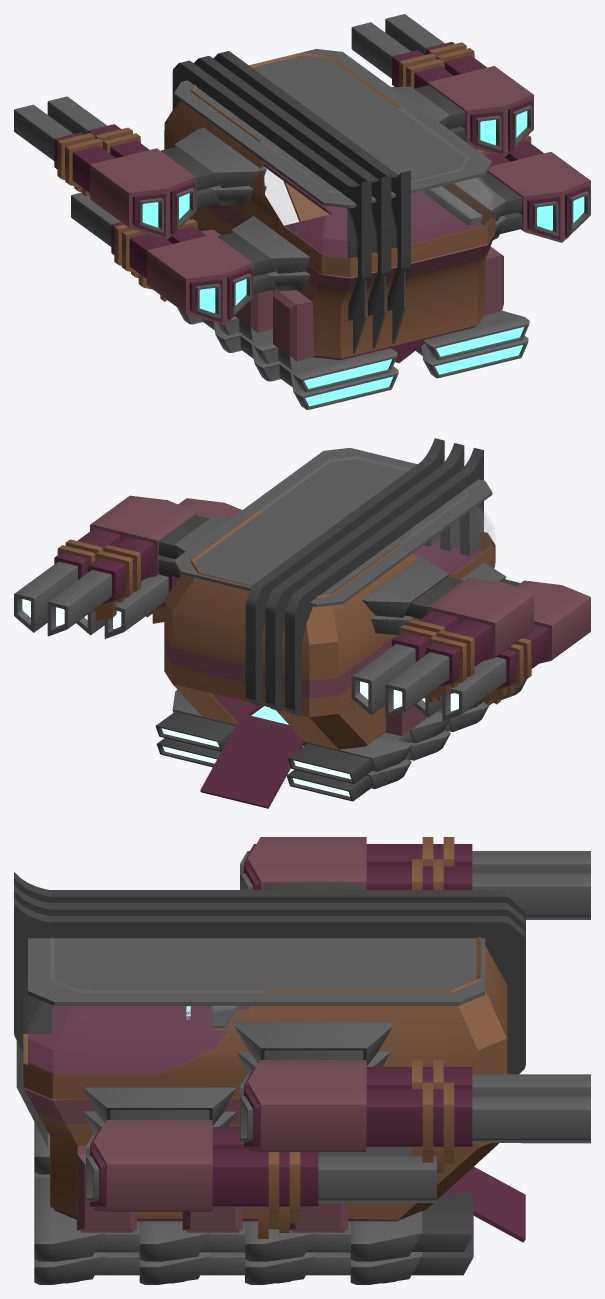
File: Kit Orel Interior Blockout.fbx
3 views of the same model, one above another, from view 1: azimuth 30°, elevation 25°; view 2: azimuth 150°, elevation 25°; view 3: azimuth 270°, elevation 25° (orthographic). The views are drawn at different scales.
Visible parts, largest first — view 1: Kit Orel Wings TOP, Kit Orel Wings, Kit Orel Lines, Kit Orel F0 Walls, Kit Orel F2 Floor, Kit Orel F1 Windshield, Kit Orel Landers, Kit Orel F1 Floor, Kit Orel F1 Windshield.001, Kit Orel F0 Floor; view 2: Kit Orel Wings TOP, Kit Orel Lines, Kit Orel F2 Floor, Kit Orel F1 Windshield.001, Kit Orel Wings, Kit Orel Landers, Kit Orel F0 Walls, Kit Orel F0 Exit, Kit Orel F1 Windshield, Kit Orel F0 Floor, Kit Orel F1 Floor; view 3: Kit Orel Wings TOP, Kit Orel Lines, Kit Orel Wings, Kit Orel F2 Floor, Kit Orel Landers, Kit Orel F1 Windshield, Kit Orel F0 Walls, Kit Orel F1 Windshield.001, Kit Orel F1 Floor, Kit Orel F0 Exit, Kit Orel F0 Floor.
Part boxes in pixels (bbox=[...]): Kit Orel Wings TOP: bbox=[14, 14, 533, 239]; Kit Orel Wings: bbox=[71, 135, 590, 324]; Kit Orel Lines: bbox=[172, 51, 410, 353]; Kit Orel F0 Walls: bbox=[190, 181, 503, 360]; Kit Orel F2 Floor: bbox=[174, 49, 492, 208]; Kit Orel F1 Windshield: bbox=[242, 106, 495, 277]; Kit Orel Landers: bbox=[177, 307, 529, 409]; Kit Orel F1 Floor: bbox=[263, 161, 483, 257]; Kit Orel F1 Windshield.001: bbox=[164, 52, 399, 216]; Kit Orel F0 Floor: bbox=[253, 311, 499, 362]; Kit Orel Wings TOP: bbox=[14, 495, 533, 718]; Kit Orel Lines: bbox=[245, 438, 483, 716]; Kit Orel F2 Floor: bbox=[174, 448, 492, 607]; Kit Orel F1 Windshield.001: bbox=[164, 510, 408, 680]; Kit Orel Wings: bbox=[76, 498, 590, 721]; Kit Orel Landers: bbox=[155, 679, 526, 801]; Kit Orel F0 Walls: bbox=[164, 563, 495, 749]; Kit Orel F0 Exit: bbox=[200, 722, 304, 808]; Kit Orel F1 Windshield: bbox=[333, 457, 495, 579]; Kit Orel F0 Floor: bbox=[211, 693, 405, 749]; Kit Orel F1 Floor: bbox=[413, 540, 483, 573]; Kit Orel Wings TOP: bbox=[235, 837, 590, 1172]; Kit Orel Lines: bbox=[14, 872, 525, 1146]; Kit Orel Wings: bbox=[83, 1006, 436, 1238]; Kit Orel F2 Floor: bbox=[28, 938, 485, 1005]; Kit Orel Landers: bbox=[34, 1122, 473, 1284]; Kit Orel F1 Windshield: bbox=[23, 991, 265, 1099]; Kit Orel F0 Walls: bbox=[24, 1006, 498, 1230]; Kit Orel F1 Windshield.001: bbox=[265, 936, 507, 1074]; Kit Orel F1 Floor: bbox=[28, 1005, 229, 1073]; Kit Orel F0 Exit: bbox=[445, 1167, 525, 1242]; Kit Orel F0 Floor: bbox=[54, 1209, 415, 1232].
Size of the model in its own units: 1442 by 774 by 1311.
